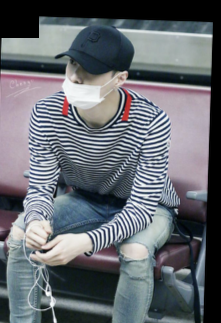mask_weared_incorrect: (63, 58, 111, 109)
